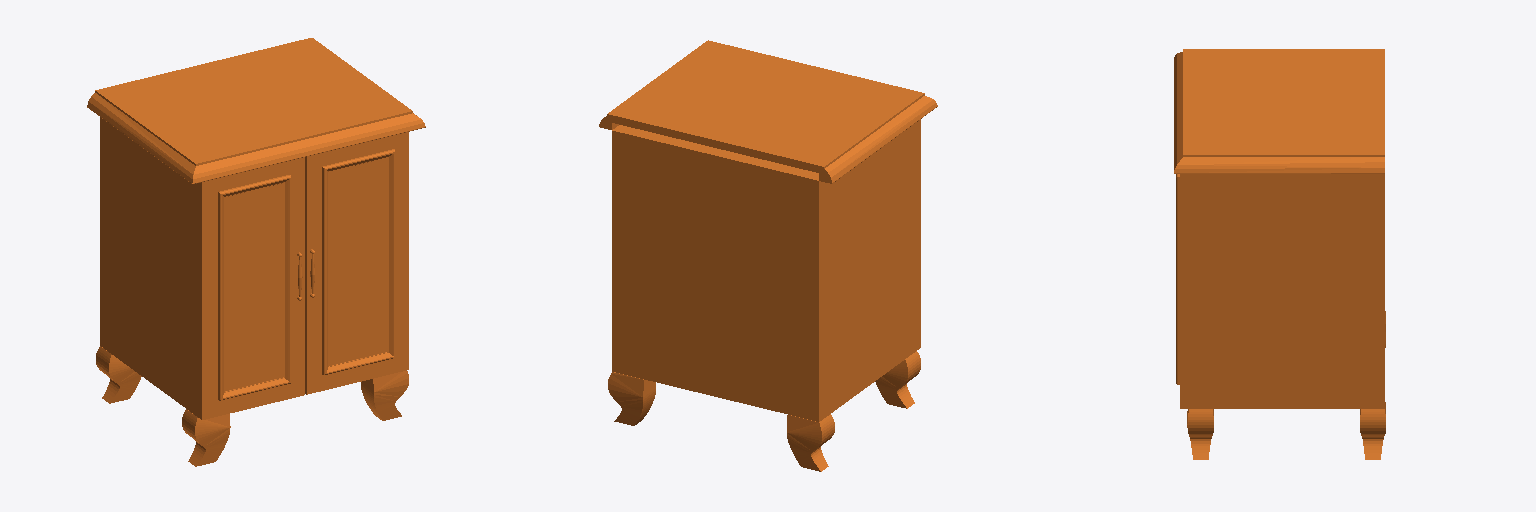
The model's file is case1_skin.obj.
The picture shows the model from 3 angles: view 1: azimuth 30°, elevation 25°; view 2: azimuth 150°, elevation 25°; view 3: azimuth 270°, elevation 25°; orthographic projection.
Parts seen in each view (by area): view 1: Layer_0, Line21, Line20, Line22; view 2: Layer_0, Line22, Line23, Line21; view 3: Layer_0, Line20, Line23.
Part boxes in pixels (bbox=[...]): Layer_0: bbox=[87, 38, 425, 419]; Line21: bbox=[182, 409, 230, 466]; Line20: bbox=[361, 371, 408, 420]; Line22: bbox=[96, 346, 141, 403]; Layer_0: bbox=[599, 40, 937, 421]; Line22: bbox=[787, 414, 834, 471]; Line23: bbox=[608, 372, 655, 425]; Line21: bbox=[875, 351, 920, 408]; Layer_0: bbox=[1174, 49, 1384, 408]; Line20: bbox=[1187, 409, 1213, 459]; Line23: bbox=[1360, 402, 1385, 459].
Size of the model in its own units: 576 by 725 by 454.